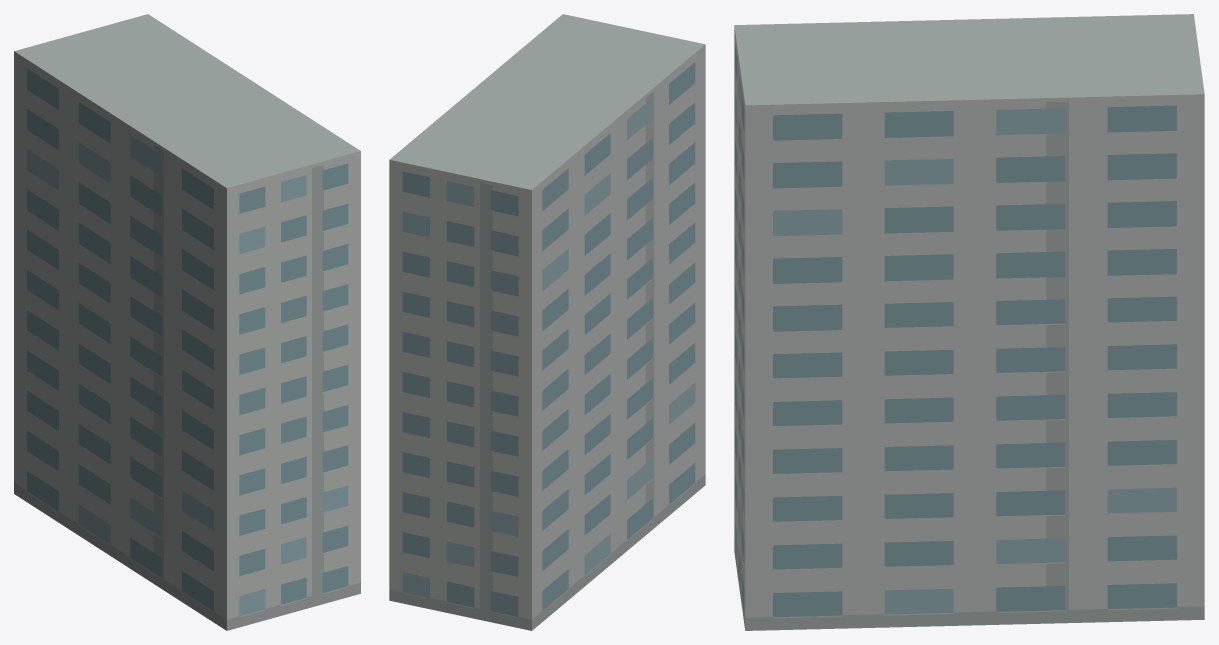
The model's file is residential-6e8a8553-32dd-42be-817b-79d821f54e5b.glb.
3 renders of one model, left to right at view 1: azimuth 30°, elevation 25°; view 2: azimuth 150°, elevation 25°; view 3: azimuth 270°, elevation 25°, orthographic. The views are drawn at different scales.
Visible parts, largest first — view 1: residential-6e8a8553-32dd-42be-817b-79d821f54e5b.tmp; view 2: residential-6e8a8553-32dd-42be-817b-79d821f54e5b.tmp; view 3: residential-6e8a8553-32dd-42be-817b-79d821f54e5b.tmp.
Boxes of the visible parts, bbox=[...] form: residential-6e8a8553-32dd-42be-817b-79d821f54e5b.tmp: bbox=[14, 14, 360, 630]; residential-6e8a8553-32dd-42be-817b-79d821f54e5b.tmp: bbox=[389, 14, 705, 630]; residential-6e8a8553-32dd-42be-817b-79d821f54e5b.tmp: bbox=[734, 14, 1204, 630].
Size of the model in its own units: 11.57 by 31 by 25.16.
